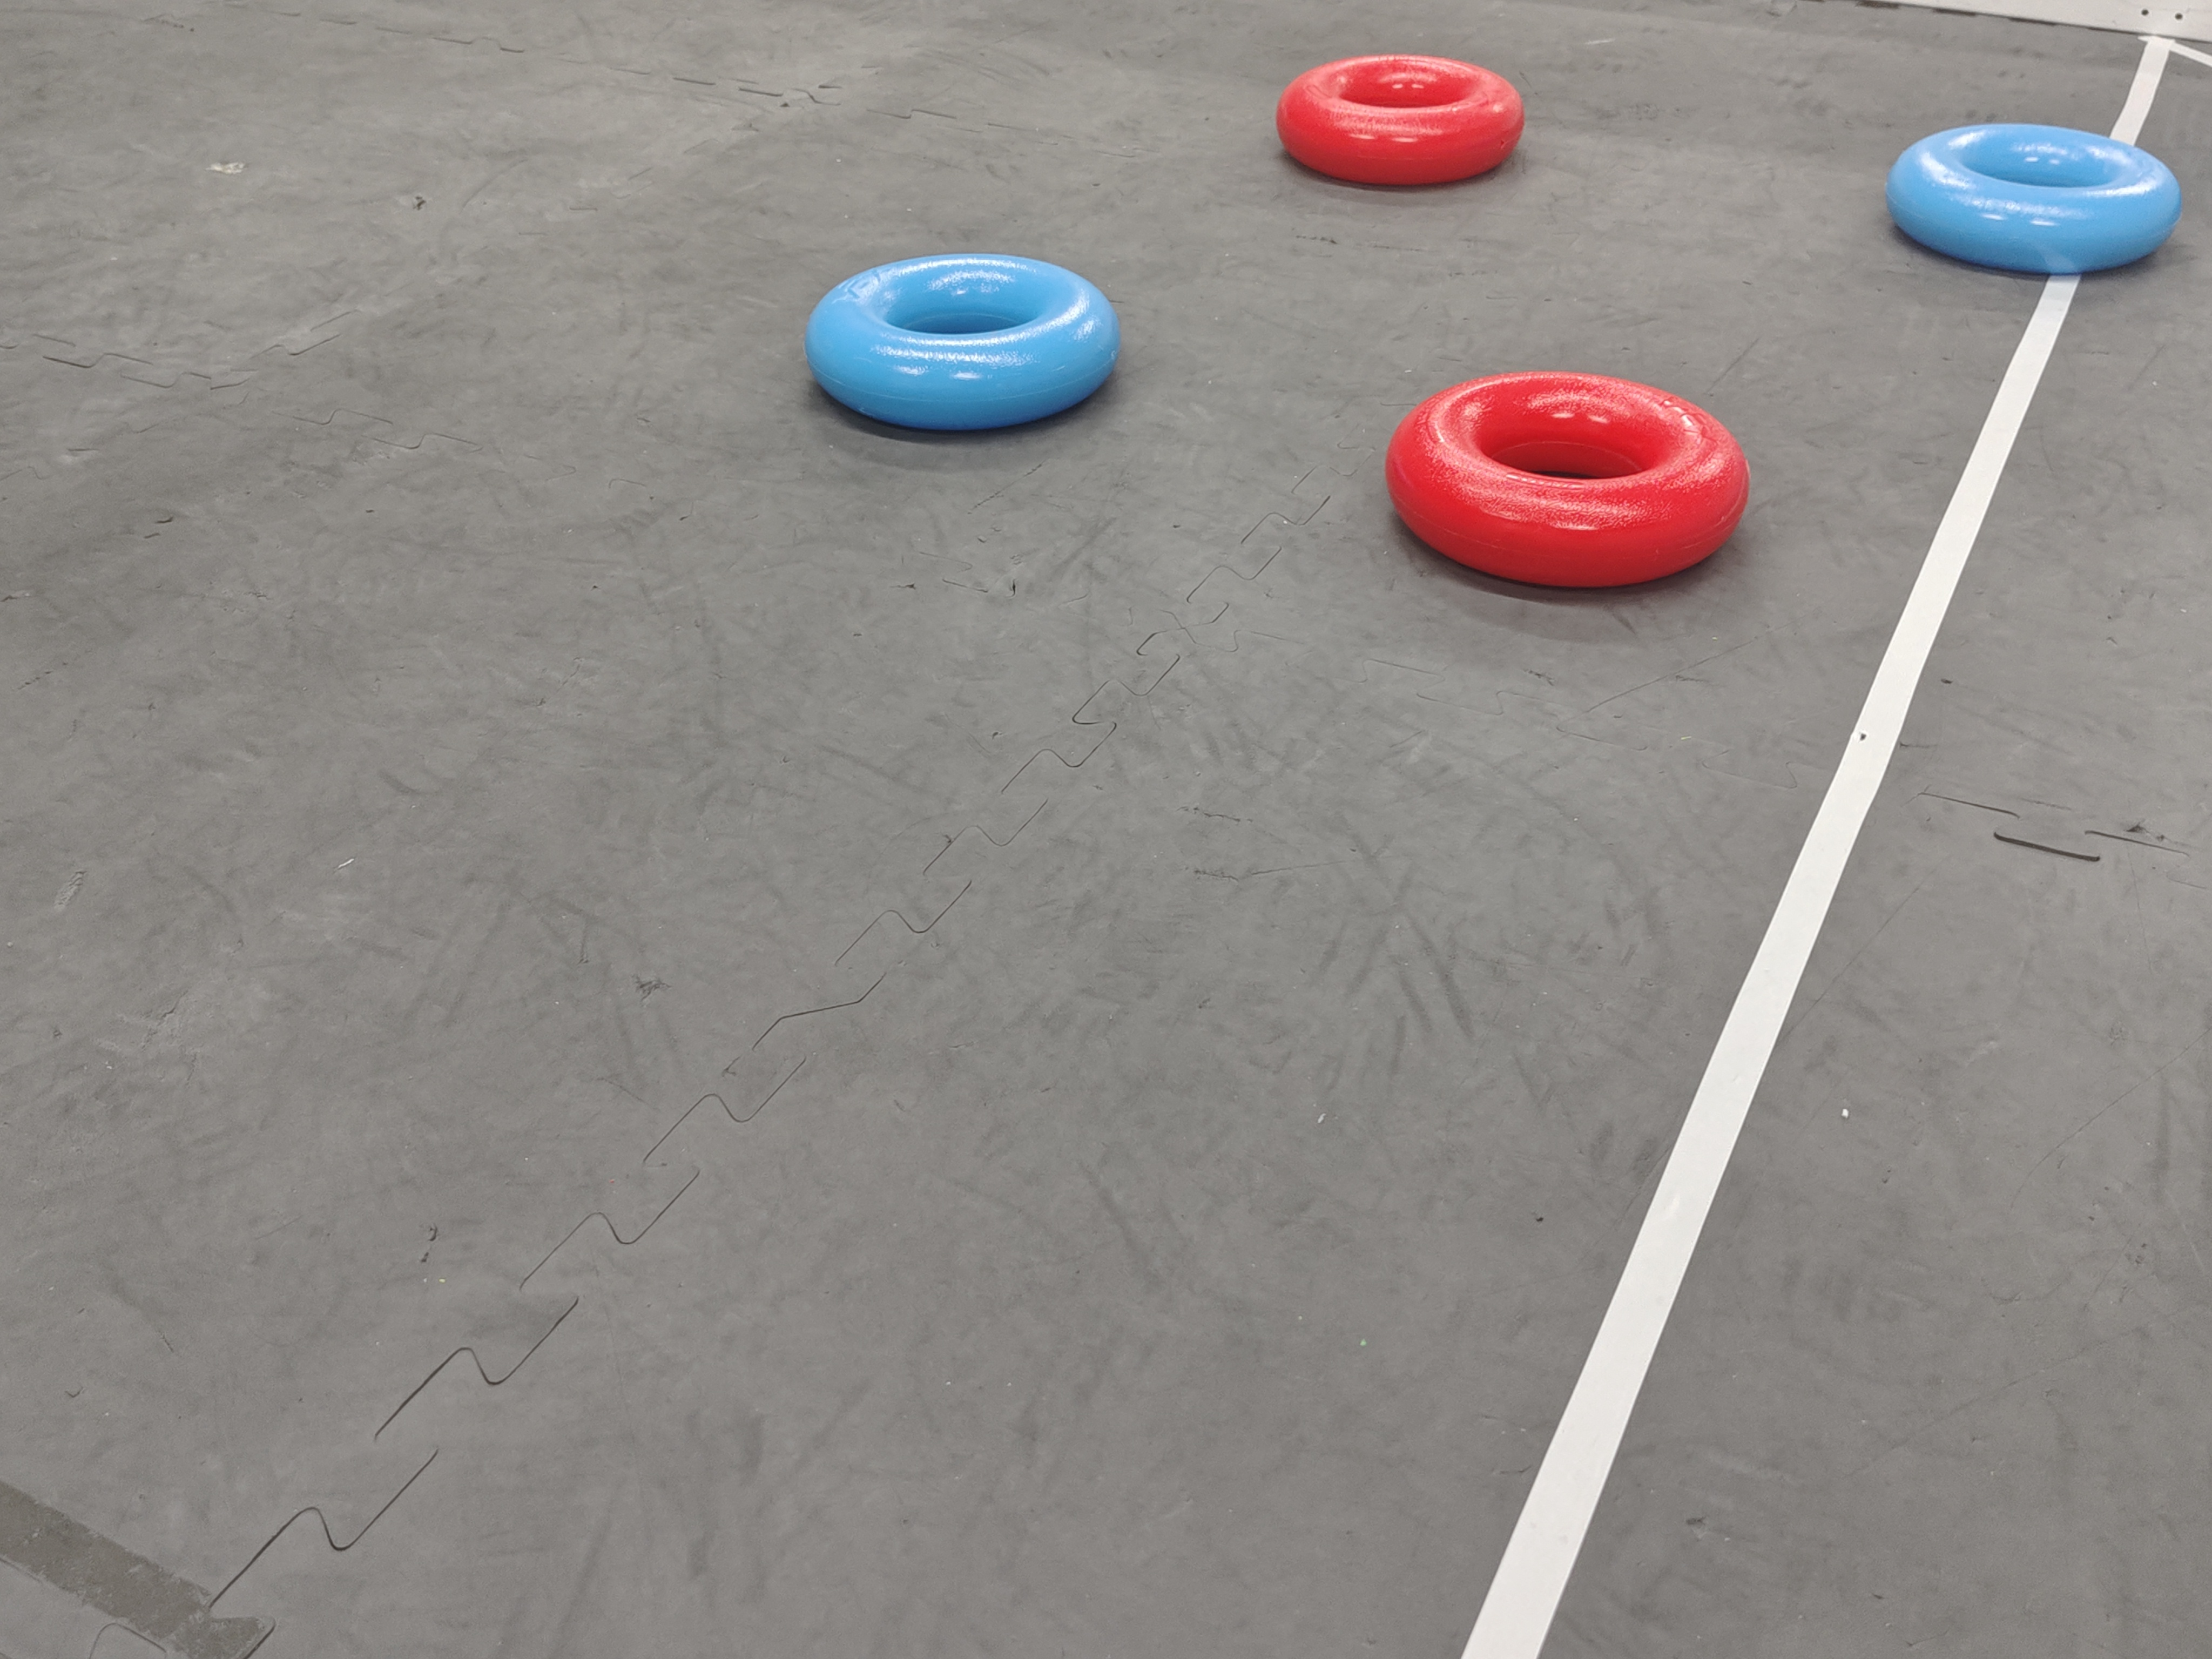blue: (808, 256, 1125, 429), (1881, 119, 2179, 282)
red: (1381, 375, 1750, 592), (1277, 51, 1527, 188)
